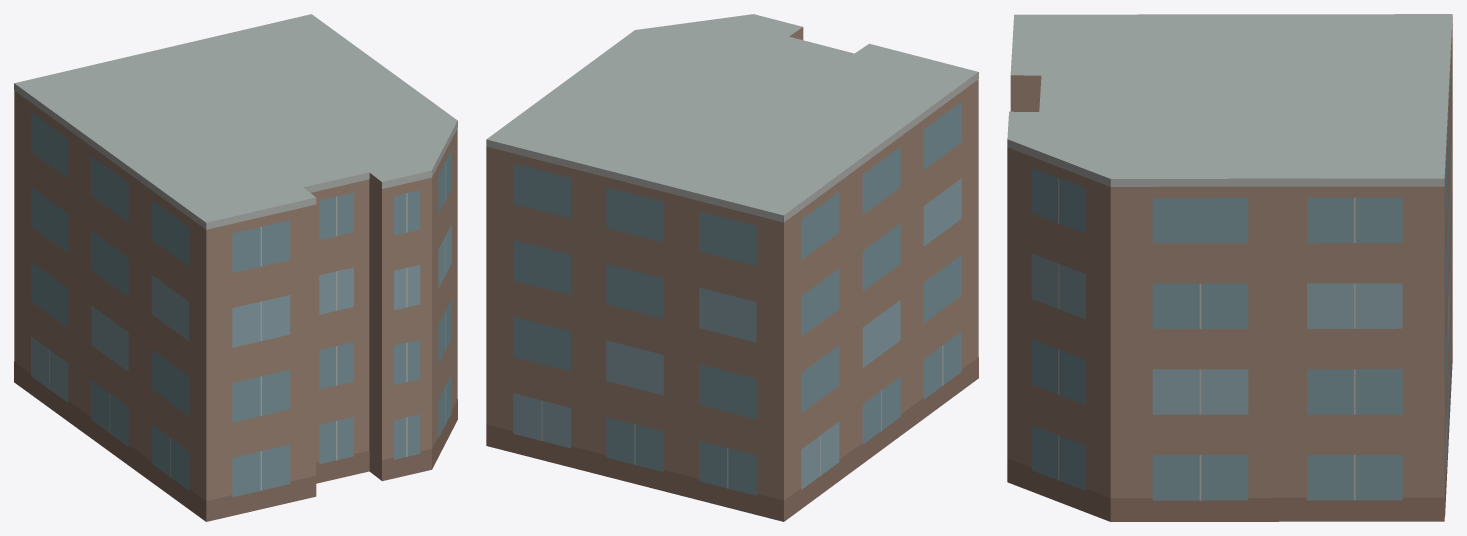
The model's file is survey-upis-32631361.glb.
The picture shows the model from 3 angles, left to right: view 1: azimuth 30°, elevation 25°; view 2: azimuth 150°, elevation 25°; view 3: azimuth 270°, elevation 25°; orthographic projection. The views are drawn at different scales.
Parts seen in each view (by area): view 1: survey-upis-32631361.tmp; view 2: survey-upis-32631361.tmp; view 3: survey-upis-32631361.tmp.
Part boxes in pixels (box(x1,y1,x2,y2)): survey-upis-32631361.tmp: box(14, 14, 457, 521); survey-upis-32631361.tmp: box(486, 14, 978, 521); survey-upis-32631361.tmp: box(1007, 14, 1452, 521).
Bounding box in the file's own units: 10.84 × 10.5 × 12.37.
